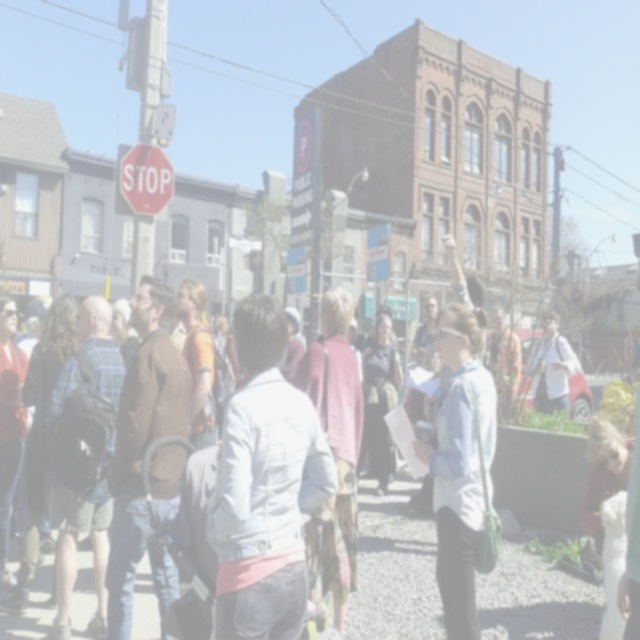pessoa: (203, 290, 339, 640), (100, 272, 192, 640), (410, 298, 506, 640), (40, 293, 130, 640), (286, 283, 369, 640), (404, 223, 492, 520), (172, 277, 238, 465), (578, 416, 636, 618), (615, 232, 640, 640), (0, 294, 31, 591), (360, 314, 404, 497), (359, 304, 401, 486), (434, 599, 608, 640), (526, 307, 582, 421), (20, 563, 168, 597), (483, 304, 523, 422), (409, 292, 438, 439), (104, 296, 143, 382), (418, 340, 444, 452), (276, 303, 308, 385), (0, 610, 83, 640), (210, 312, 228, 448), (354, 534, 441, 560), (14, 298, 51, 353), (343, 306, 367, 384), (300, 589, 334, 640), (166, 314, 188, 358), (398, 342, 406, 372)
